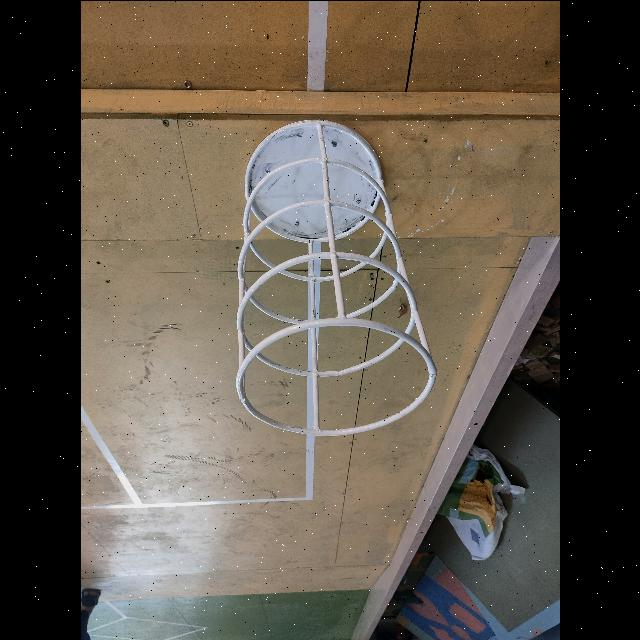S: (234, 115, 437, 439)
